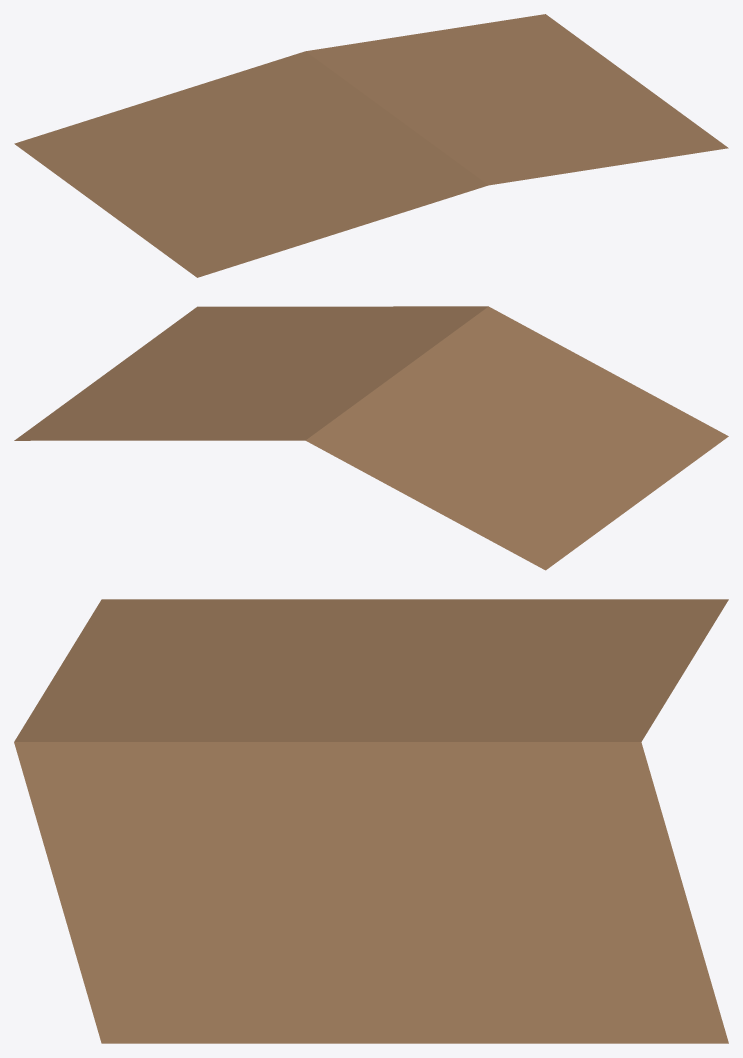
The model's file is Prop_Book.fbx.
The picture shows the model from 3 angles, top to bottom: view 1: azimuth 30°, elevation 25°; view 2: azimuth 150°, elevation 25°; view 3: azimuth 270°, elevation 25°; orthographic projection. The views are drawn at different scales.
Parts seen in each view (by area): view 1: Prop_Book; view 2: Prop_Book; view 3: Prop_Book.
Part boxes in pixels (x1,y1,x2,y2): Prop_Book: (14,14,728,277); Prop_Book: (14,306,728,570); Prop_Book: (14,599,728,1043).
Size of the model in its own units: 0.72 by 0.06 by 0.49.
